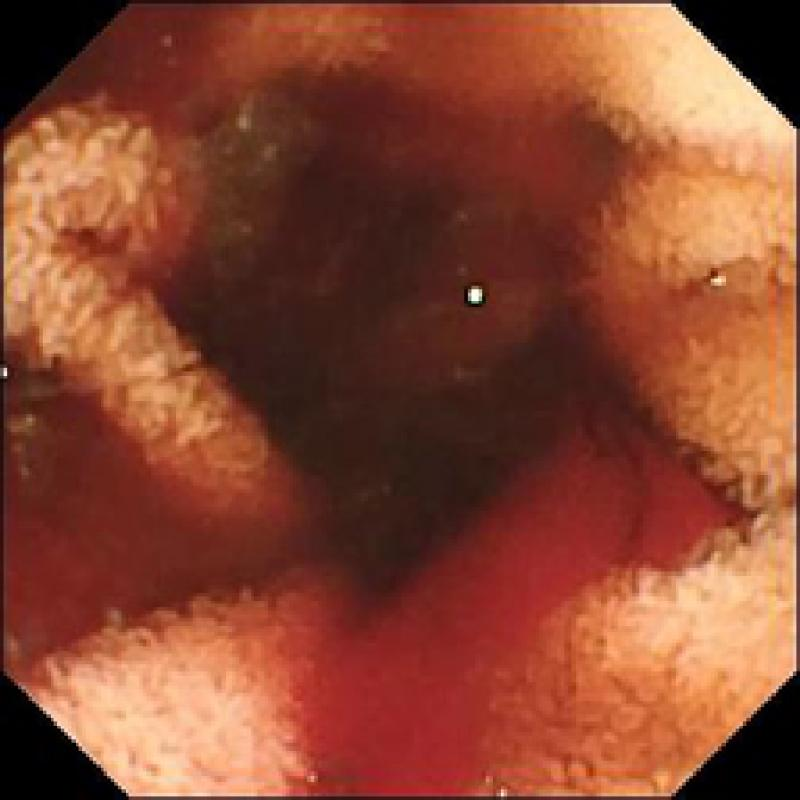bleeding: (314, 448, 727, 800), (15, 436, 272, 639)
